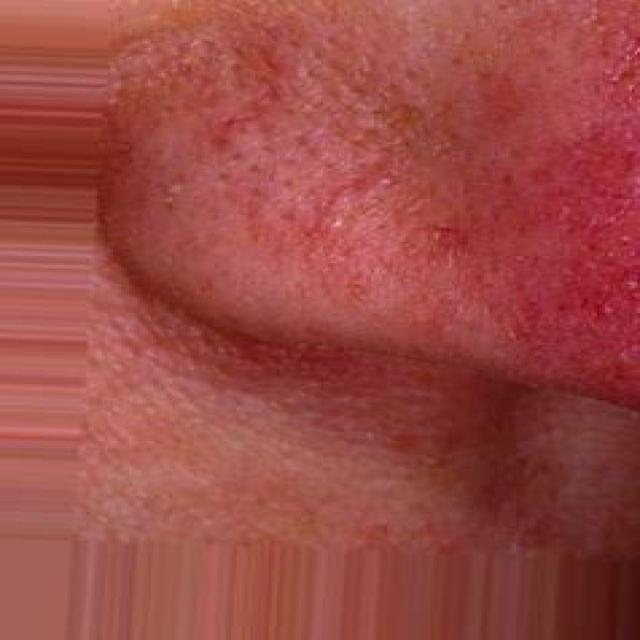Rosacea: (492, 34, 640, 399)
